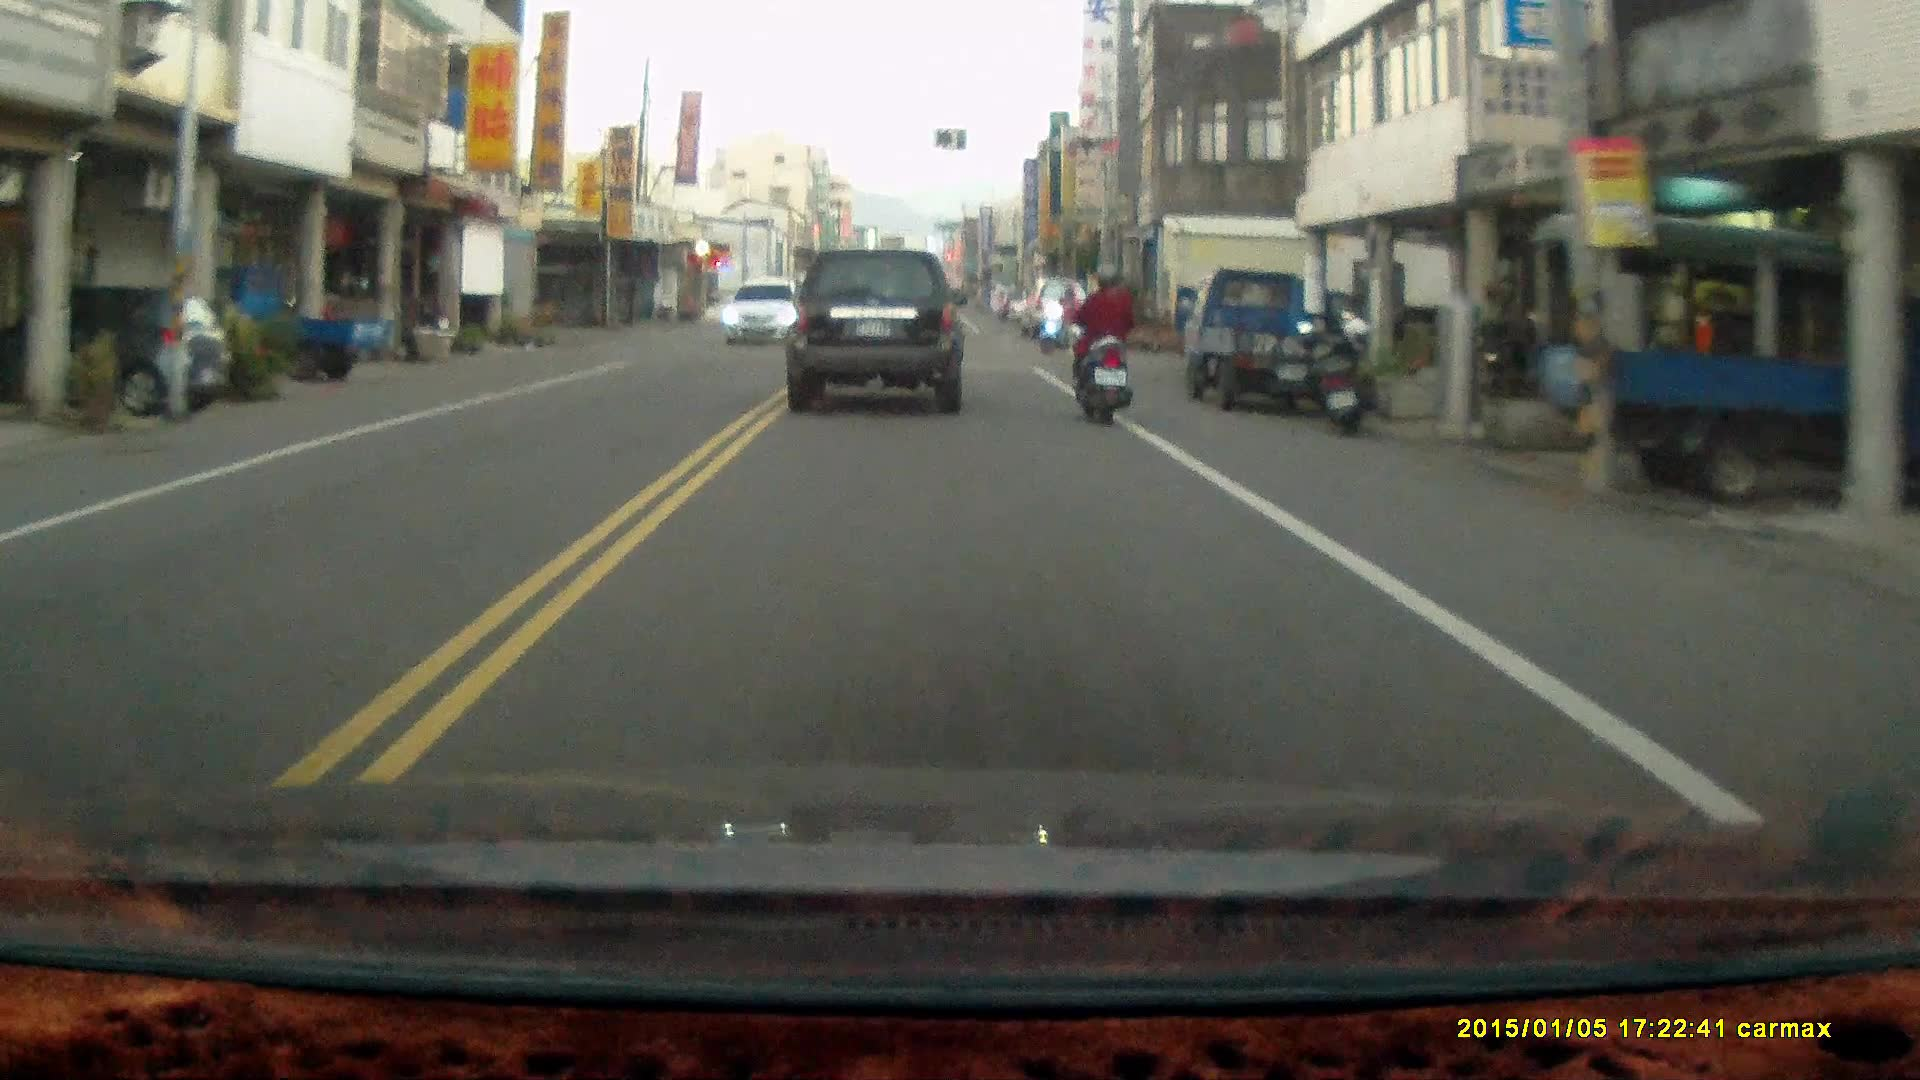rider: (1072, 263, 1132, 425), (1035, 286, 1082, 353)
vehicle: (1565, 218, 1920, 501), (787, 247, 969, 418), (1, 288, 230, 423), (1183, 271, 1370, 415), (194, 260, 396, 380), (724, 281, 801, 346)
